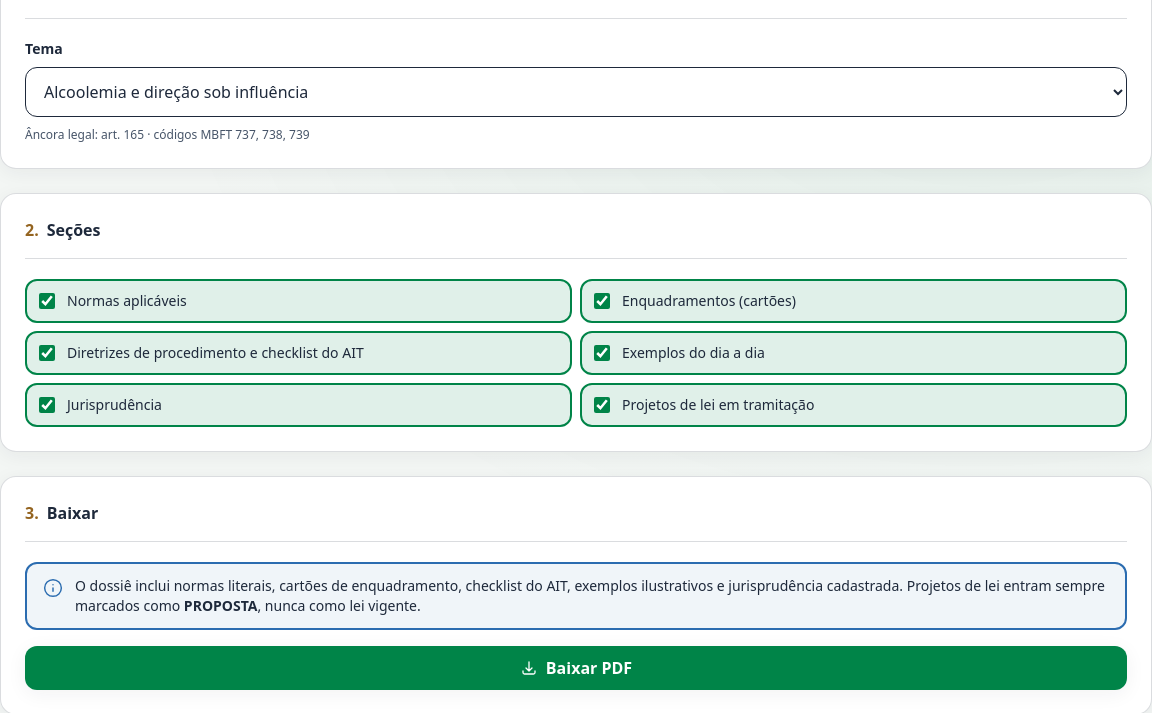
GerarPDFTab › surfaces a network failure
(page scrolled)
Click the button "Baixar PDF": point(576, 668) [25,646,1127,690]
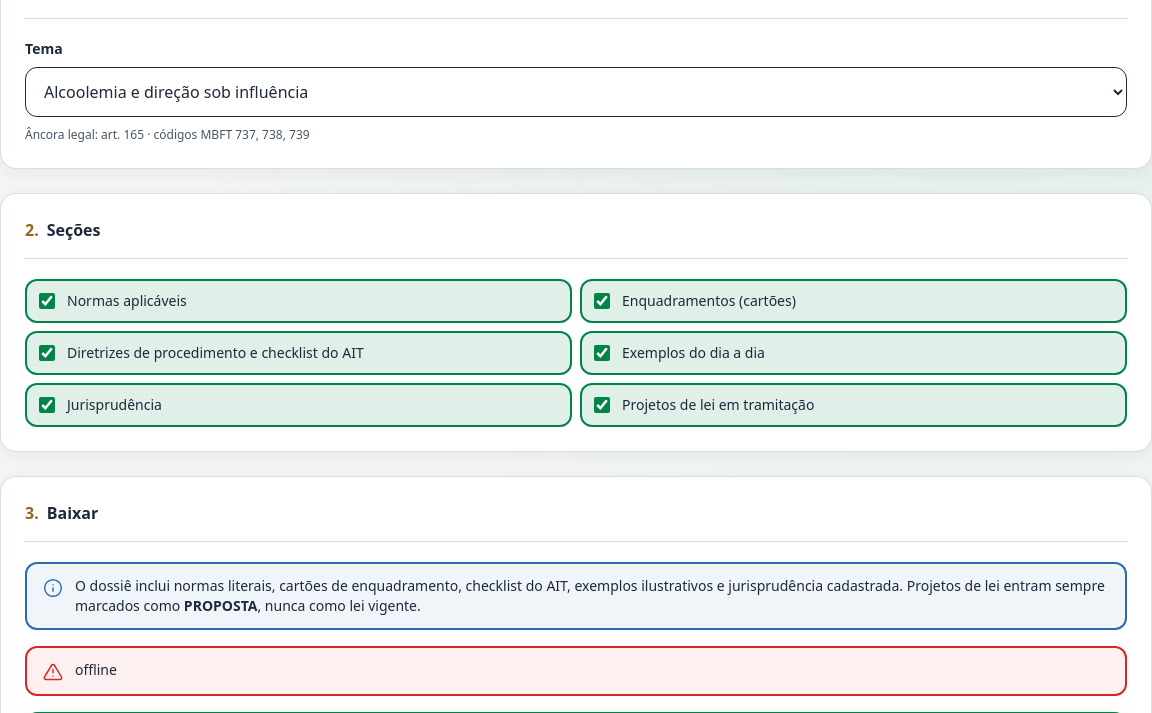
Expected: the message reads "offline", [75,660,117,679]
